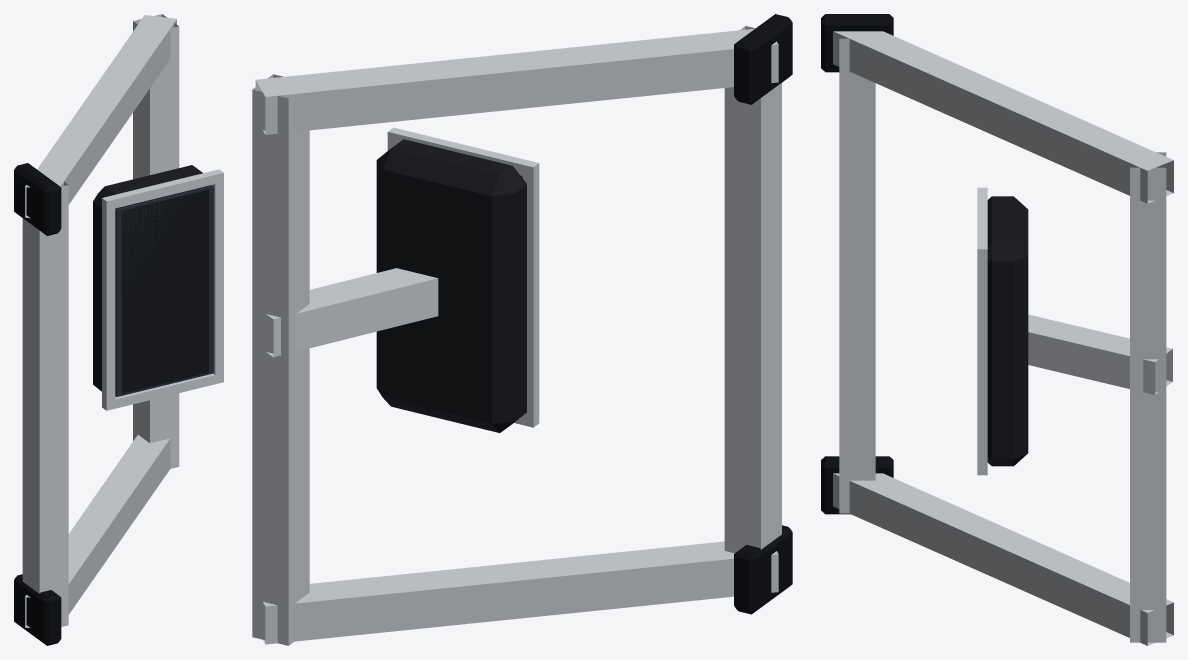
The model's file is mirror_stay_box.glb.
3 renders of one model, left to right at view 1: azimuth 30°, elevation 25°; view 2: azimuth 150°, elevation 25°; view 3: azimuth 270°, elevation 25°, orthographic. The views are drawn at different scales.
Parts seen in each view (by area): view 1: mirror_stay_box_chrome, mirror_stay_box_deco_body, mirror_stay_box_deco_trim, mirror_stay_box_deco_mirror; view 2: mirror_stay_box_chrome, mirror_stay_box_deco_body, mirror_stay_box_deco_trim; view 3: mirror_stay_box_chrome, mirror_stay_box_deco_body, mirror_stay_box_deco_trim.
Part boxes in pixels (x1,y1,x2,y2): mirror_stay_box_chrome: (22,14,223,628); mirror_stay_box_deco_body: (93,165,211,393); mirror_stay_box_deco_trim: (14,163,61,645); mirror_stay_box_deco_mirror: (115,185,213,396); mirror_stay_box_chrome: (252,26,781,645); mirror_stay_box_deco_body: (376,139,526,432); mirror_stay_box_deco_trim: (734,14,792,614); mirror_stay_box_chrome: (833,31,1173,645); mirror_stay_box_deco_body: (987,196,1028,466); mirror_stay_box_deco_trim: (821,14,893,514).
Size of the model in its own units: 0.4907 by 0.751 by 0.4853.
